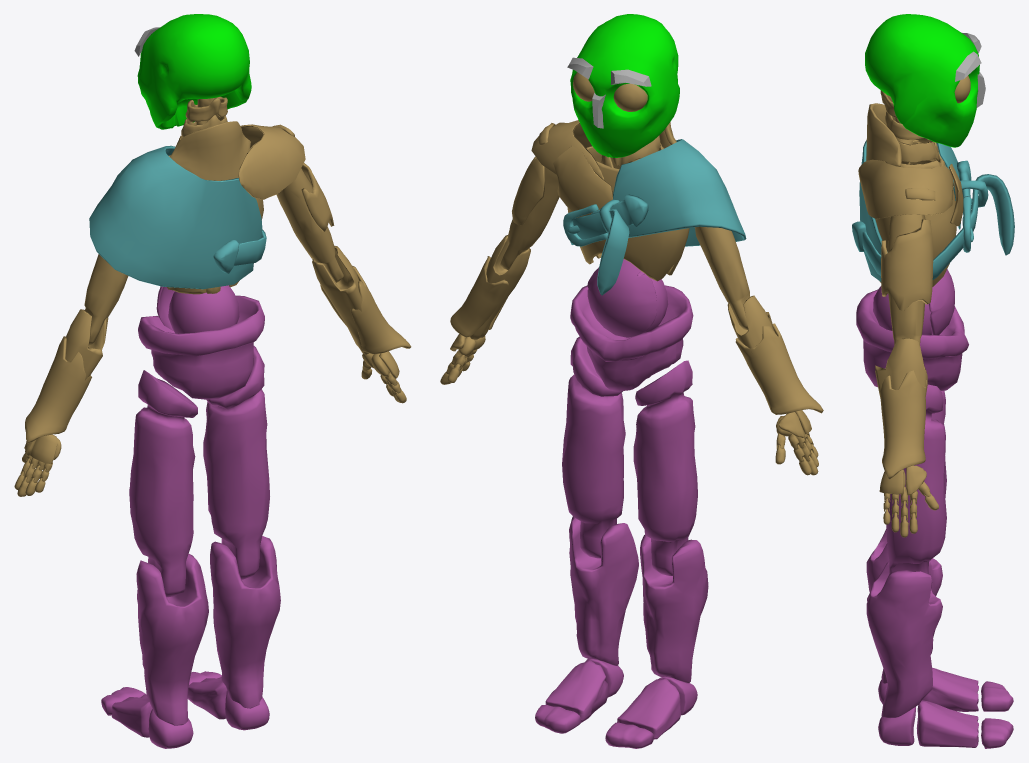
Rendered from FBX_Sooru_Full_Mode.fbx.
3 renders of one model, left to right at view 1: azimuth 30°, elevation 25°; view 2: azimuth 150°, elevation 25°; view 3: azimuth 270°, elevation 25°, orthographic. The views are drawn at different scales.
Parts seen in each view (by area): view 1: Sooru_Veste_LD, Sooru_Cuisse_Droit_LD2, Sooru_Cuisse_Gauche_LD3, Sooru_Tete_LD1, Sooru_Jambe_Droit_LD2, Sooru_Jambe_Gauche_LD3, Sooru_Bassin_LD, Sooru_Plaque_Epaule_LD, Sooru_Protege_Avant_Bras_Droit_LD2, Sooru_Plaque_Cou_LD, Sooru_Rotation_Hanche_LD, Sooru_Bras_Gauche_LD (+11 smaller); view 2: Sooru_Cuisse_Droit_LD2, Sooru_Tete_LD1, Sooru_Cuisse_Gauche_LD3, Sooru_Veste_LD, Sooru_Jambe_Gauche_LD3, Sooru_Jambe_Droit_LD2, Sooru_Bassin_LD, Sooru_Ventre_LD, Sooru_Protege_Avant_Bras_Droit_LD2, Sooru_Torse_LD, Sooru_Bras_Droit_LD2, Sooru_Plaque_Torse_LD (+14 smaller); view 3: Sooru_Tete_LD1, Sooru_Jambe_Gauche_LD3, Sooru_Cuisse_Gauche_LD3, Sooru_Bassin_LD, Sooru_Plaque_Epaule_LD, Sooru_Protege_Avant_Bras_Gauche_LD, Sooru_Plaque_Biceps_Gauche_LD, Sooru_Laniere_Ceinture_LD, Sooru_Pied_Gauche_LD3, Sooru_Bras_Gauche_LD, Sooru_Pied_Droit_LD2, Sooru_Bras_Avant_Gauche_LD (+22 smaller).
Part boxes in pixels (bbox=[...]): Sooru_Veste_LD: bbox=[89, 145, 262, 289]; Sooru_Cuisse_Droit_LD2: bbox=[129, 370, 197, 597]; Sooru_Cuisse_Gauche_LD3: bbox=[203, 346, 269, 579]; Sooru_Tete_LD1: bbox=[137, 14, 251, 129]; Sooru_Jambe_Droit_LD2: bbox=[136, 554, 208, 725]; Sooru_Jambe_Gauche_LD3: bbox=[210, 536, 280, 708]; Sooru_Bassin_LD: bbox=[138, 295, 264, 399]; Sooru_Plaque_Epaule_LD: bbox=[238, 124, 305, 199]; Sooru_Protege_Avant_Bras_Droit_LD2: bbox=[25, 336, 91, 443]; Sooru_Plaque_Cou_LD: bbox=[170, 121, 250, 180]; Sooru_Rotation_Hanche_LD: bbox=[168, 285, 239, 333]; Sooru_Bras_Gauche_LD: bbox=[276, 168, 343, 282]; Sooru_Cuisse_Droit_LD2: bbox=[633, 360, 697, 575]; Sooru_Tete_LD1: bbox=[570, 14, 679, 157]; Sooru_Cuisse_Gauche_LD3: bbox=[562, 336, 625, 558]; Sooru_Veste_LD: bbox=[613, 139, 746, 246]; Sooru_Jambe_Gauche_LD3: bbox=[569, 516, 638, 665]; Sooru_Jambe_Droit_LD2: bbox=[640, 535, 708, 683]; Sooru_Bassin_LD: bbox=[570, 285, 693, 391]; Sooru_Ventre_LD: bbox=[587, 259, 656, 337]; Sooru_Protege_Avant_Bras_Droit_LD2: bbox=[735, 323, 823, 414]; Sooru_Torse_LD: bbox=[567, 146, 689, 281]; Sooru_Bras_Droit_LD2: bbox=[694, 226, 749, 329]; Sooru_Plaque_Torse_LD: bbox=[553, 146, 612, 216]; Sooru_Tete_LD1: bbox=[865, 14, 979, 147]; Sooru_Jambe_Gauche_LD3: bbox=[866, 560, 942, 718]; Sooru_Cuisse_Gauche_LD3: bbox=[886, 384, 946, 573]; Sooru_Bassin_LD: bbox=[856, 289, 968, 390]; Sooru_Plaque_Epaule_LD: bbox=[858, 159, 953, 219]; Sooru_Protege_Avant_Bras_Gauche_LD: bbox=[880, 370, 927, 479]; Sooru_Plaque_Biceps_Gauche_LD: bbox=[881, 219, 933, 311]; Sooru_Laniere_Ceinture_LD: bbox=[862, 174, 1014, 279]; Sooru_Pied_Gauche_LD3: bbox=[916, 700, 978, 747]; Sooru_Bras_Gauche_LD: bbox=[888, 214, 925, 345]; Sooru_Pied_Droit_LD2: bbox=[922, 667, 978, 711]; Sooru_Bras_Avant_Gauche_LD: bbox=[875, 338, 926, 398].
Size of the model in its own units: 133 by 233 by 48.87.
